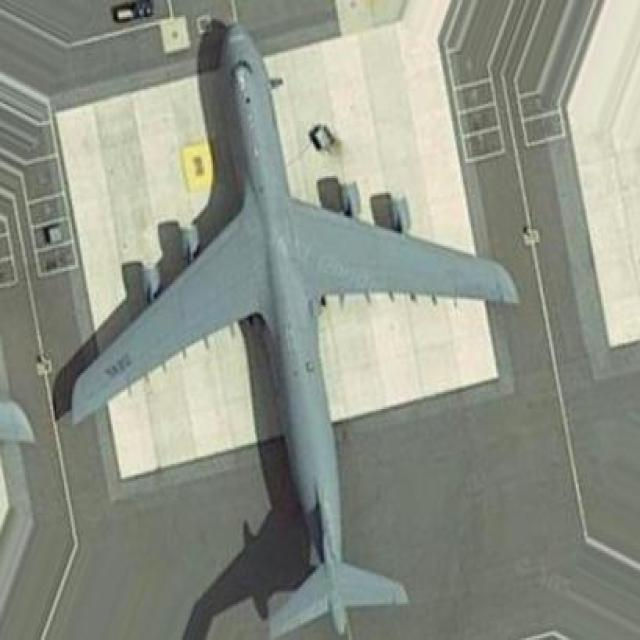C-5_TopDown: (49, 15, 521, 638)
